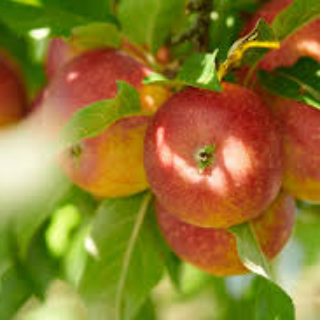tao: (140, 79, 287, 233)
